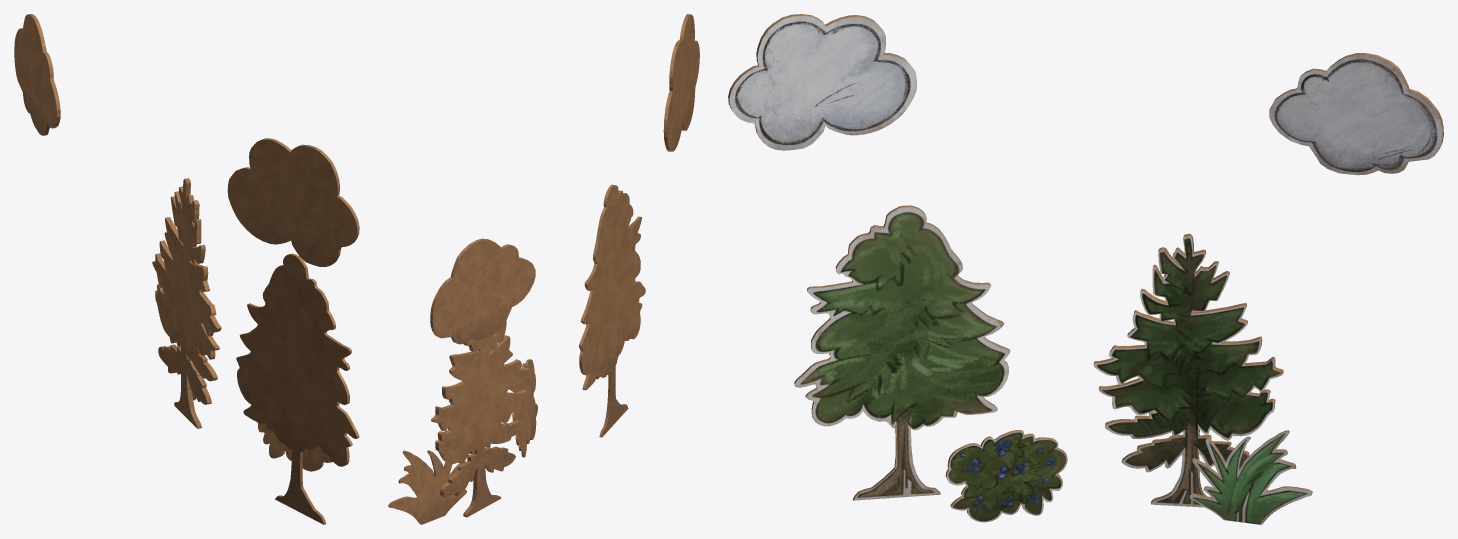
File: cardboard_decorations.glb
The picture shows the model from 3 angles, left to right: view 1: azimuth 30°, elevation 25°; view 2: azimuth 150°, elevation 25°; view 3: azimuth 270°, elevation 25°; orthographic projection. The views are drawn at different scales.
Visible parts, largest first — view 1: tree_tree_0, cloud2_cloud2_0, pine_pine_0, cloud1_cloud1_0, bush_bush_0; view 2: pine_pine_0, tree_tree_0, cloud1_cloud1_0, cloud2_cloud2_0, grass_grass_0, bush_bush_0; view 3: tree_tree_0, pine_pine_0, cloud2_cloud2_0, cloud1_cloud1_0, bush_bush_0, grass_grass_0.
Part boxes in pixels (x1,y1,x2,y2): tree_tree_0: (236,253,359,524); cloud2_cloud2_0: (227,138,359,266); pine_pine_0: (152,178,221,428); cloud1_cloud1_0: (14,14,60,135); bush_bush_0: (258,423,332,471); pine_pine_0: (431,321,529,517); tree_tree_0: (578,184,645,437); cloud1_cloud1_0: (430,238,535,344); cloud2_cloud2_0: (663,14,699,151); grass_grass_0: (388,450,466,524); bush_bush_0: (512,359,537,457); tree_tree_0: (794,205,1010,500); pine_pine_0: (1093,233,1283,507); cloud2_cloud2_0: (728,14,916,150); cloud1_cloud1_0: (1269,53,1443,175); bush_bush_0: (945,430,1067,522); grass_grass_0: (1189,430,1312,524).
Size of the model in its own units: 4.61 by 12.39 by 17.25.
6 materials, 6 textured.
